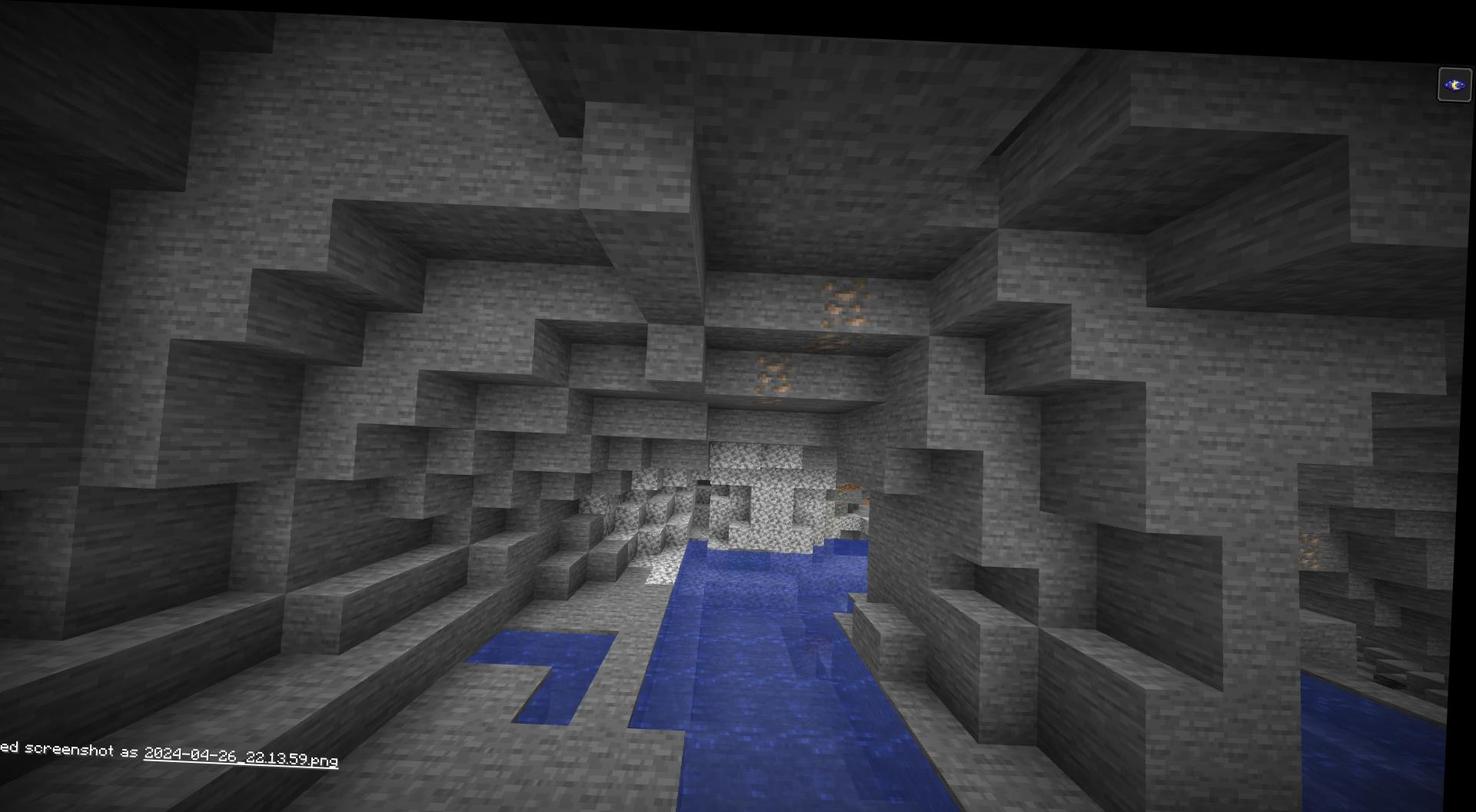iron ore: (817, 263, 875, 318), (755, 344, 797, 397), (813, 321, 864, 348)
